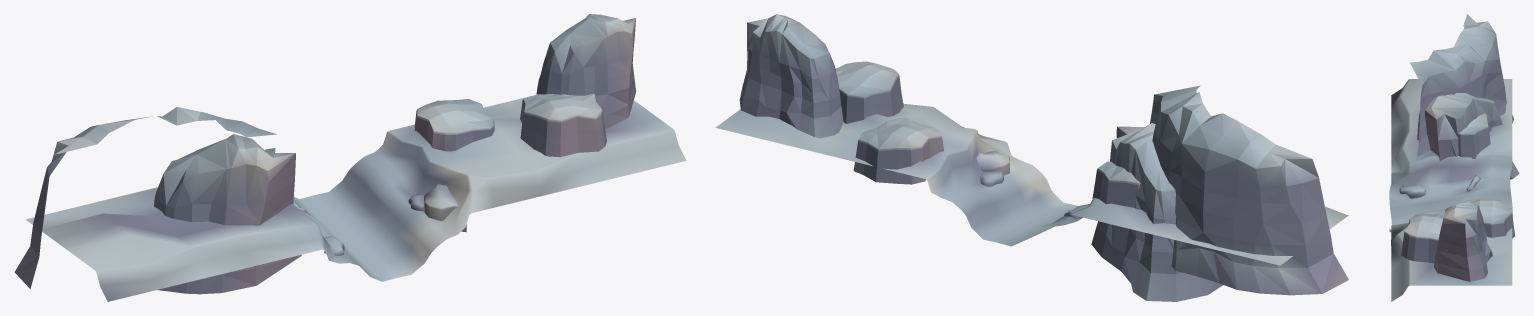
The model's file is Arctic_Luge_Straight_A.glb.
3 renders of one model, left to right at view 1: azimuth 30°, elevation 25°; view 2: azimuth 150°, elevation 25°; view 3: azimuth 270°, elevation 25°, orthographic. The views are drawn at different scales.
Parts seen in each view (by area): view 1: Arctic_Luge_Straight_A, Arctic_Luge_LargeIceRock_prop, Arctic_Luge_LargeIceRock_prop (1), Arctic_Luge_SmallIceRock_prop (2), Arctic_Luge_IceWall_prop, Arctic_Luge_SmallIceRock_prop (1); view 2: Arctic_Luge_IceWall_prop, Arctic_Luge_Straight_A, Arctic_Luge_LargeIceRock_prop (1), Arctic_Luge_LargeIceRock_prop, Arctic_Luge_SmallIceRock_prop (1), Arctic_Luge_SmallIceRock_prop (2), Arctic_Luge_SmallIceRock_prop; view 3: Arctic_Luge_Straight_A, Arctic_Luge_IceWall_prop, Arctic_Luge_LargeIceRock_prop (1), Arctic_Luge_LargeIceRock_prop, Arctic_Luge_SmallIceRock_prop (2), Arctic_Luge_SmallIceRock_prop (1), Arctic_Luge_SmallIceRock_prop.
Boxes of the visible parts, x1,y1,x2,y2 form: Arctic_Luge_Straight_A: (25,96,686,301); Arctic_Luge_LargeIceRock_prop: (154,134,301,294); Arctic_Luge_LargeIceRock_prop (1): (536,14,636,128); Arctic_Luge_SmallIceRock_prop (2): (520,93,606,157); Arctic_Luge_IceWall_prop: (14,106,276,288); Arctic_Luge_SmallIceRock_prop (1): (414,99,494,151); Arctic_Luge_IceWall_prop: (1150,85,1348,295); Arctic_Luge_Straight_A: (715,103,1348,265); Arctic_Luge_LargeIceRock_prop (1): (739,14,843,138); Arctic_Luge_LargeIceRock_prop: (1091,123,1222,301); Arctic_Luge_SmallIceRock_prop (1): (853,117,943,184); Arctic_Luge_SmallIceRock_prop (2): (835,61,903,123); Arctic_Luge_SmallIceRock_prop: (1092,161,1140,207); Arctic_Luge_Straight_A: (1389,79,1512,301); Arctic_Luge_IceWall_prop: (1410,14,1514,156); Arctic_Luge_LargeIceRock_prop (1): (1434,202,1492,281); Arctic_Luge_LargeIceRock_prop: (1417,93,1519,179); Arctic_Luge_SmallIceRock_prop (2): (1401,214,1443,263); Arctic_Luge_SmallIceRock_prop (1): (1460,199,1514,238); Arctic_Luge_SmallIceRock_prop: (1458,113,1490,158).
Size of the model in its own units: 27.61 by 7.56 by 6.92.
